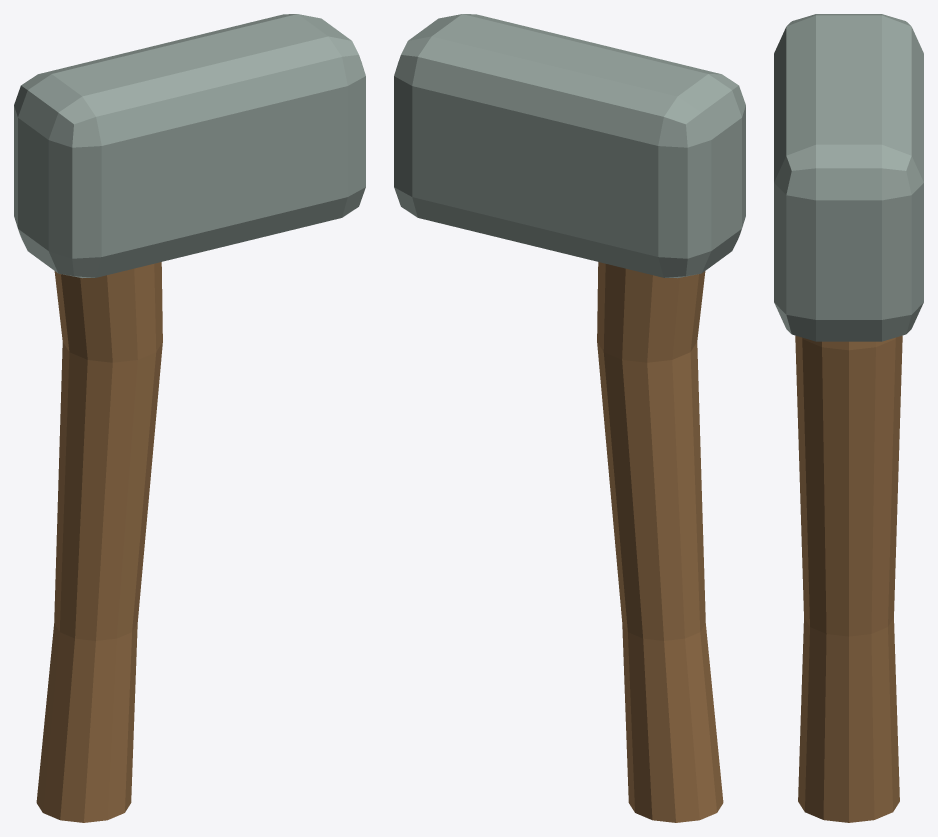
File: asset.glb
3 renders of one model, left to right at view 1: azimuth 30°, elevation 25°; view 2: azimuth 150°, elevation 25°; view 3: azimuth 270°, elevation 25°, orthographic. The views are drawn at different scales.
Visible parts, largest first — view 1: StoneHead, Handle; view 2: StoneHead, Handle; view 3: StoneHead, Handle.
Boxes of the visible parts, left/top/right/bottom form: StoneHead: left=14, top=14, right=365, bottom=278; Handle: left=36, top=262, right=162, bottom=822; StoneHead: left=394, top=14, right=745, bottom=278; Handle: left=597, top=262, right=723, bottom=822; StoneHead: left=774, top=14, right=923, bottom=341; Handle: left=795, top=335, right=902, bottom=822.
Bounding box in the file's own units: 0.65 × 1.43 × 0.25.
